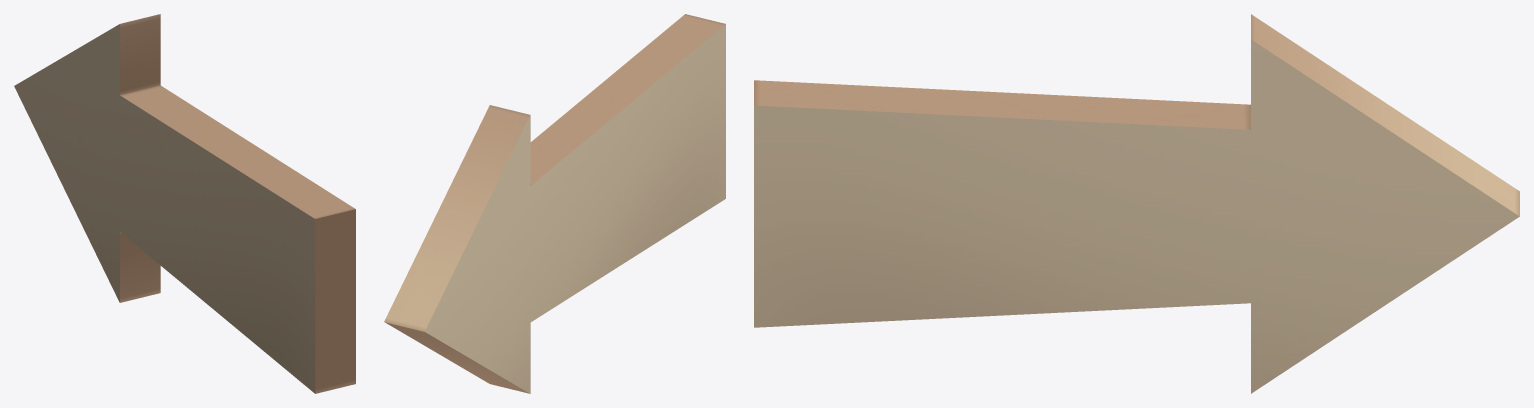
Rendered from MaLuBian_01_jiantou_01.FBX.
The picture shows the model from 3 angles, left to right: view 1: azimuth 30°, elevation 25°; view 2: azimuth 150°, elevation 25°; view 3: azimuth 270°, elevation 25°; orthographic projection. The views are drawn at different scales.
Parts seen in each view (by area): view 1: MaLuBian_01_jiantou_01; view 2: MaLuBian_01_jiantou_01; view 3: MaLuBian_01_jiantou_01.
Part boxes in pixels (<box>): MaLuBian_01_jiantou_01: <box>14,14,355,393</box>; MaLuBian_01_jiantou_01: <box>384,14,725,393</box>; MaLuBian_01_jiantou_01: <box>754,14,1519,393</box>.
Size of the model in its own units: 9.55 by 62.62 by 123.
